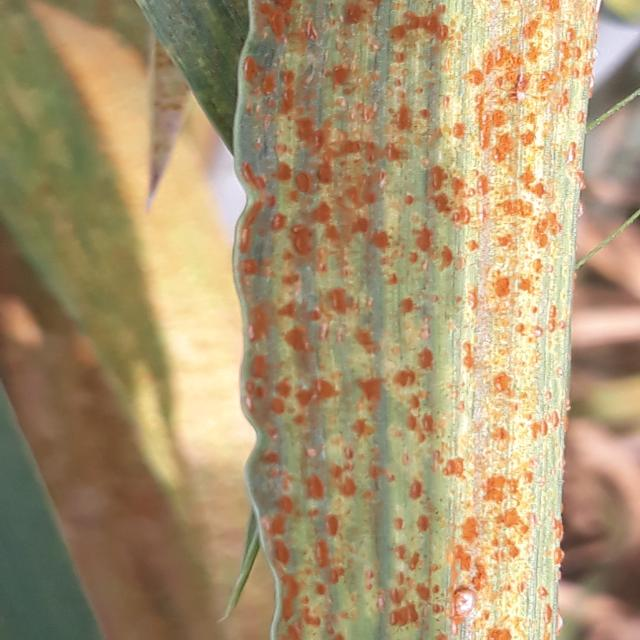orang_rust: (226, 0, 612, 640), (134, 2, 220, 209)
